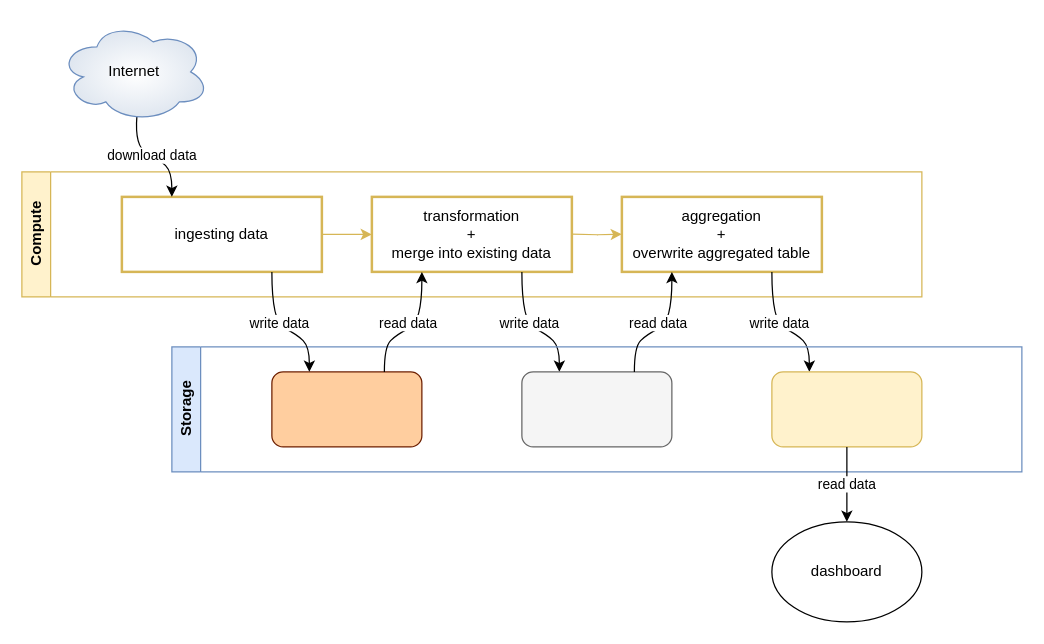
Some shapes in this 1044 by 644 pixel diagram are drawn without their labels. The shapes that lost their labels are listed below. From the top down, each one's box as (x1, y1, x2, y2) in pixels, then its label:
(271, 371, 422, 447): bronze
(521, 371, 672, 447): silver
(771, 371, 922, 447): gold
